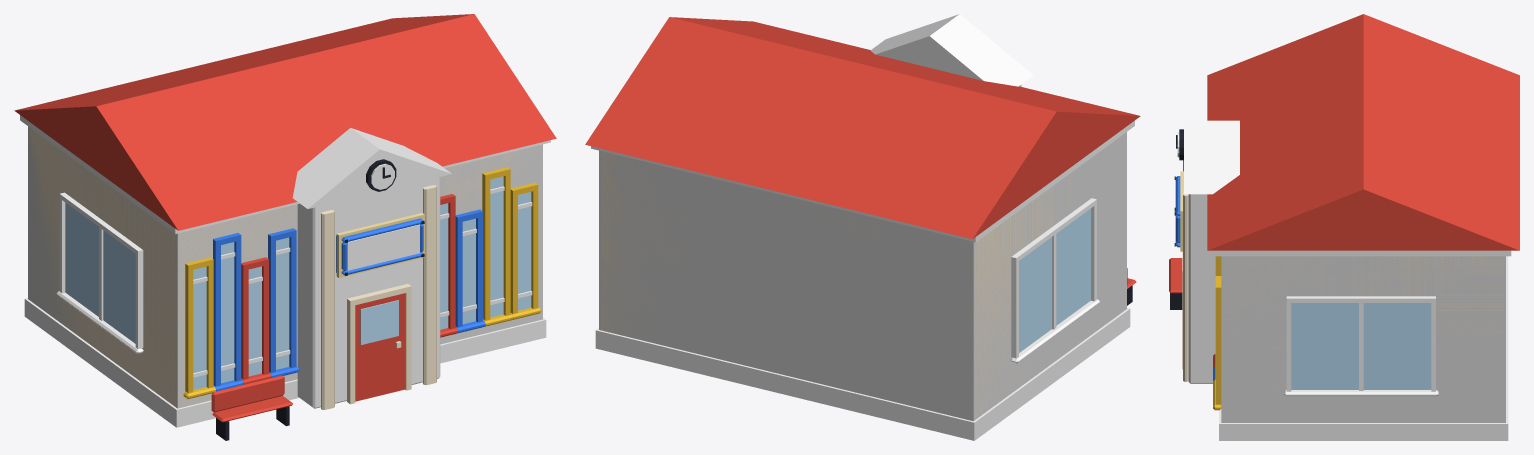
Rendered from library.glb.
3 renders of one model, left to right at view 1: azimuth 30°, elevation 25°; view 2: azimuth 150°, elevation 25°; view 3: azimuth 270°, elevation 25°, orthographic. The views are drawn at different scales.
Visible parts, largest first — view 1: library, COL_body, sign_board, sign_frame; view 2: library, COL_body; view 3: library, COL_body, sign_frame.
Part boxes in pixels (<box>): library: <box>14,14,556,440</box>; COL_body: <box>28,126,542,408</box>; sign_board: <box>346,224,419,270</box>; sign_frame: <box>336,213,424,277</box>; library: <box>585,14,1140,440</box>; COL_body: <box>599,132,1126,421</box>; library: <box>1169,14,1519,440</box>; COL_body: <box>1221,256,1505,422</box>; sign_frame: <box>1174,171,1183,251</box>.
Bounding box in the file's own units: 8.96 × 6 × 7.52.
